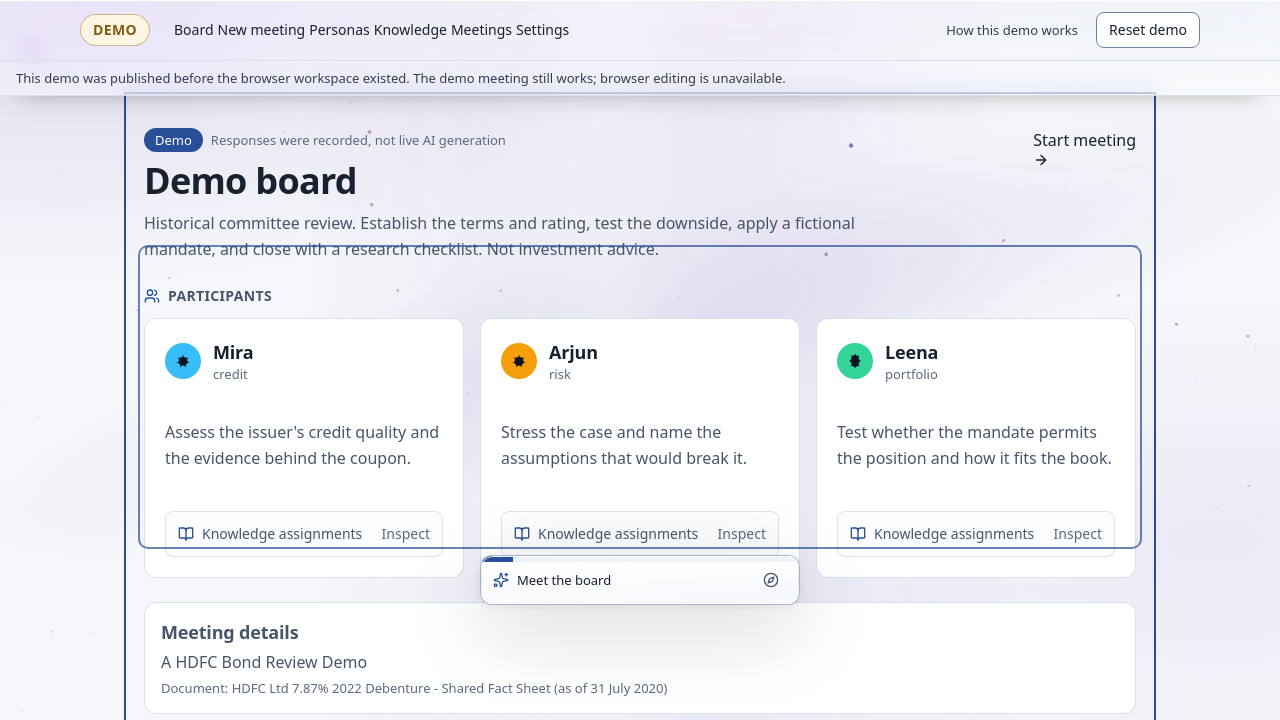
canonical guided demo journey › walks board to prepared intake to the recorded room without live reads
Expected: the heading "Demo board" is shown, [144,156,357,205]
Expected: the text "Meet the board" is shown, [517,571,611,589]
Click the link "Start meeting". click: (1085, 148)
box: [1033,128,1136,168]
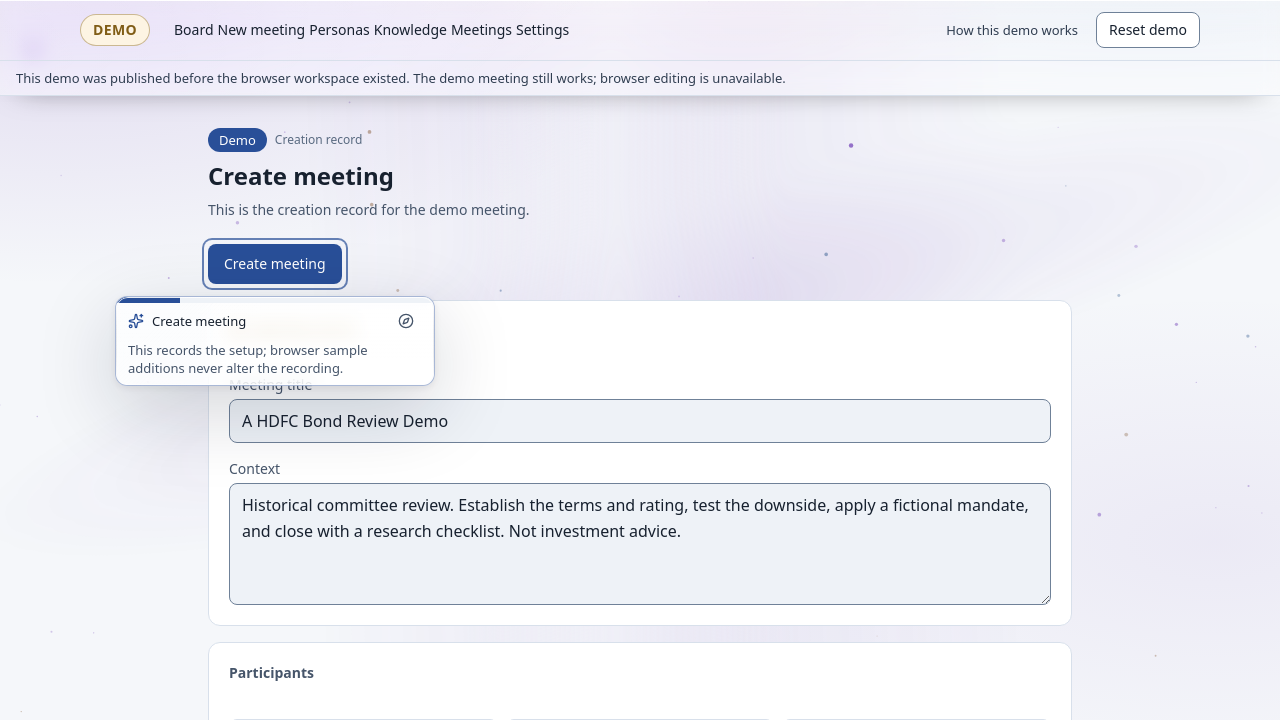
Expected: the text "Create meeting" is shown, [152,312,246,330]
Click the button "Create meeting". click: (275, 264)
box: [208,244,342,284]
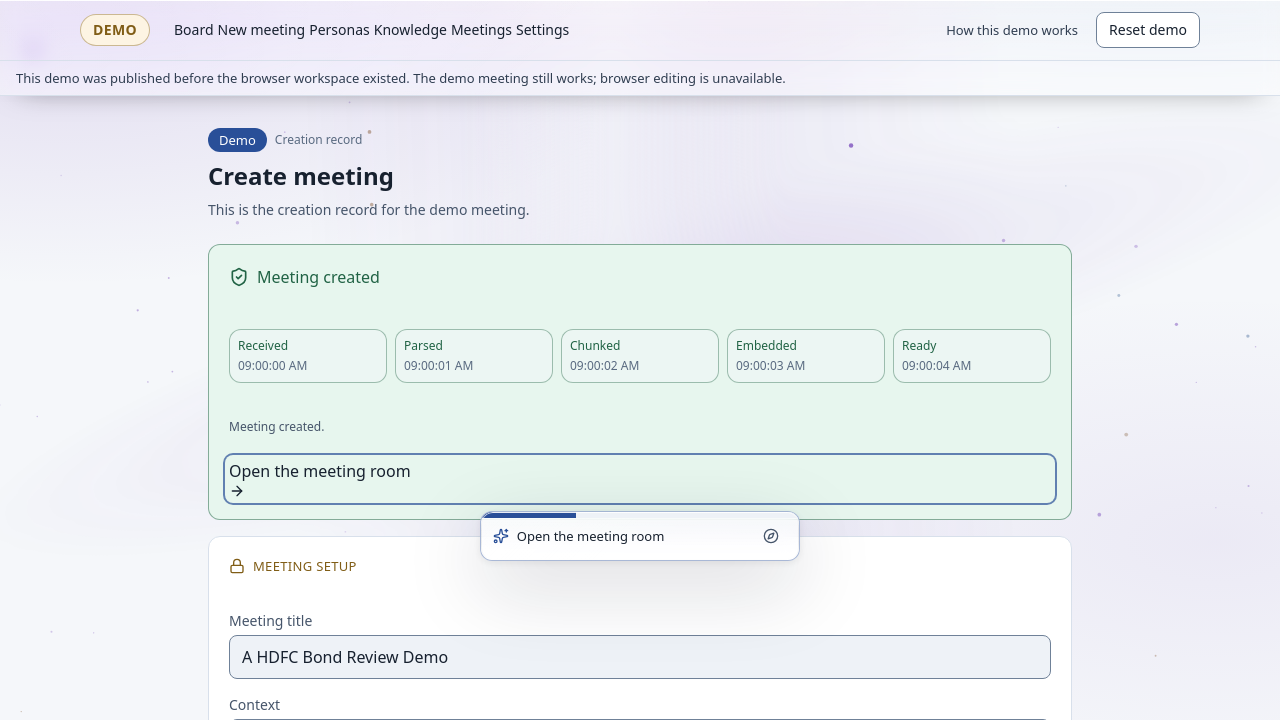
Expected: the heading "Meeting created" is shown, [257,265,380,289]
Expected: the text "Open the meeting room" is shown, [517,527,665,545]
Click the link "Open the meeting room". click: (320, 480)
box: [229,460,411,499]
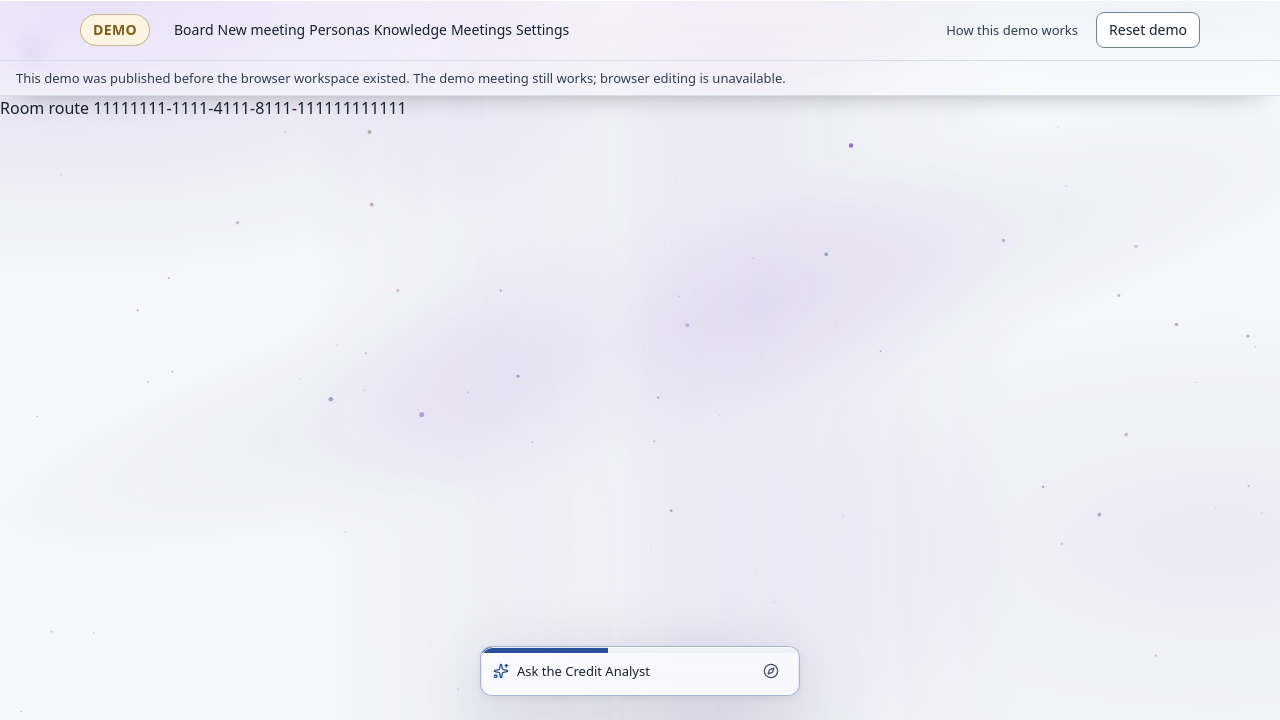
Expected: the text "Ask the Credit Analyst" is shown, [517,662,650,680]
